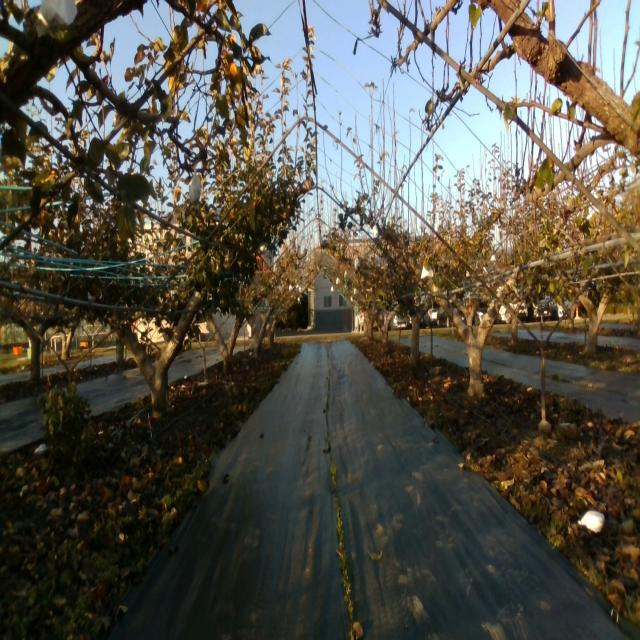pearbags: (36, 0, 79, 41), (188, 170, 200, 210)
